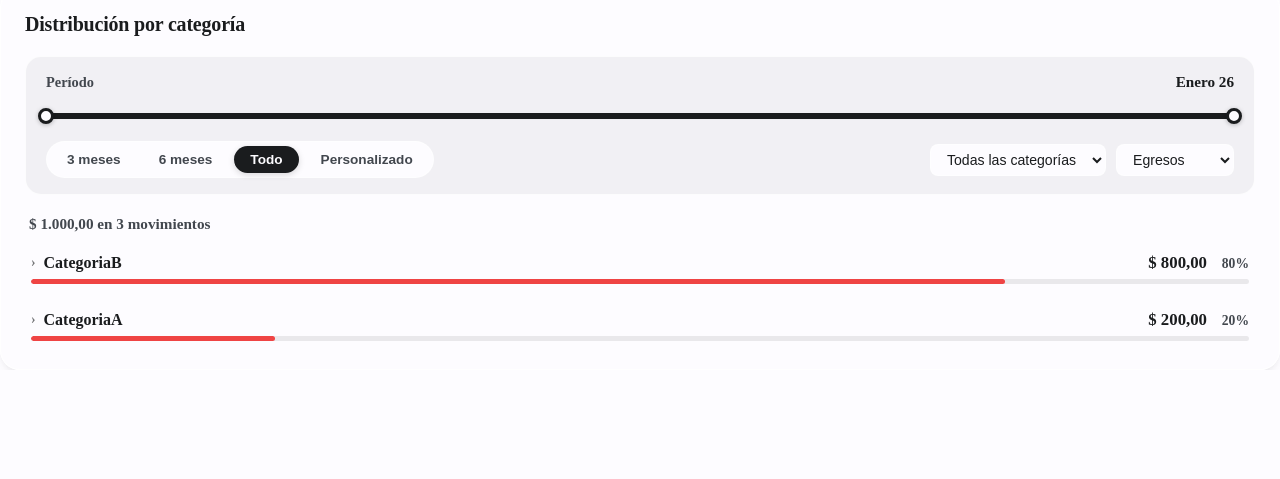
Test: CategoryDistributionCard - In-situ Drill Down & Global Percentages › strictly computes subcategory percentages relative to the overall total (user example: 20% cat with 50/50 subcats = 10% each)
# Click CategoriaA to expand
Click the button titled "Ver desglose de CategoriaA" at point(83, 320), box [25,306,1255,345]
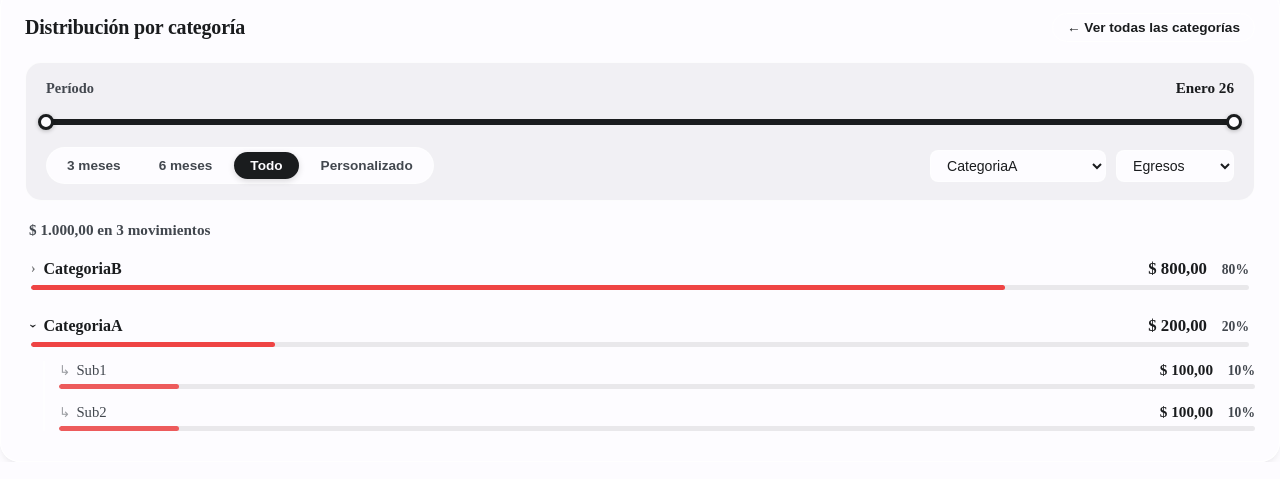
Expected: the button titled "Ver desglose de CategoriaB" is shown, [25,255,1255,294]
Now the text "Sub1" shows "10%", box [59,361,1255,389]
Now the text "Sub2" shows "10%", box [59,403,1255,431]
